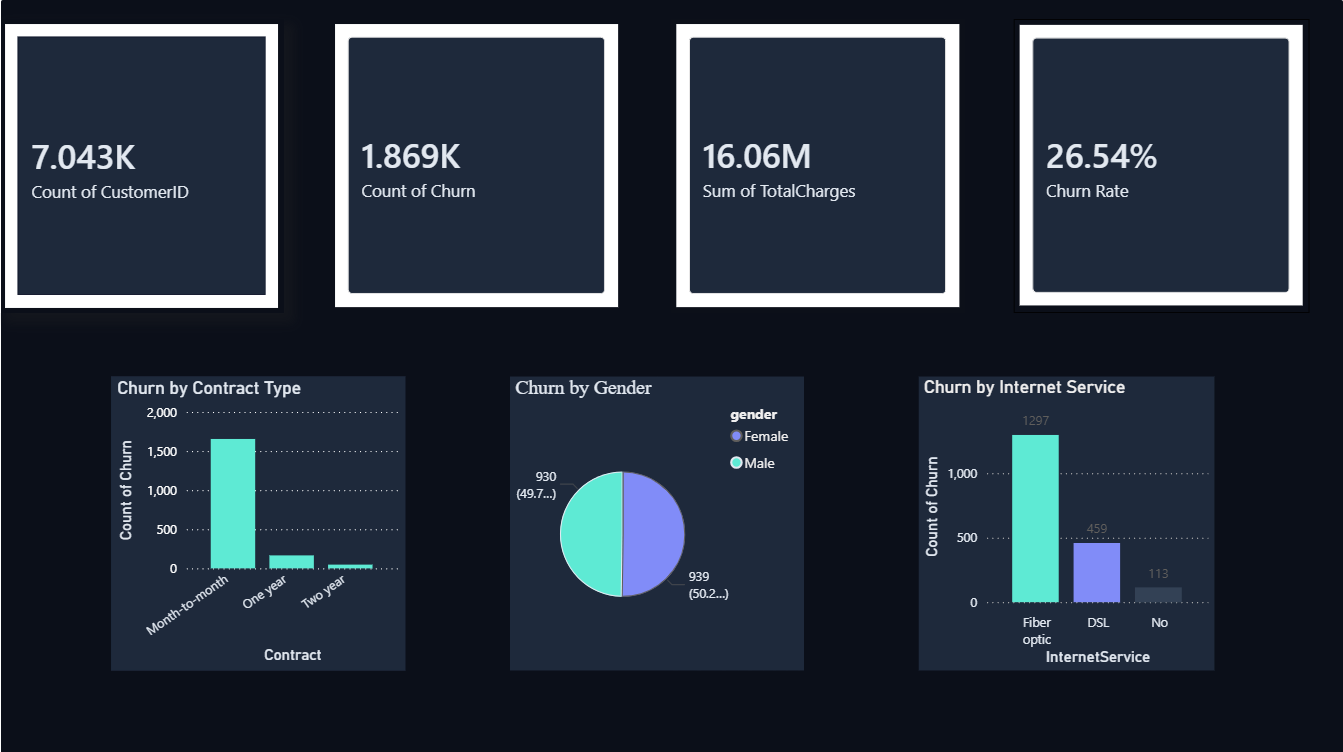

This screenshot's page, from the dashboard's own definition file:
{"tool":"powerbi","page":{"name":"Page 1","canvas":[1280,720],"ordinal":0},"visuals":[{"type":"clusteredColumnChart","title":"Churn by Contract Type","fields":{"Category":["WA_Fn-UseC_-Telco-Customer-Churn.Contract"],"Y":["CountNonNull(WA_Fn-UseC_-Telco-Customer-Churn.Churn)"]},"box":[105.7,359.5,279.9,279.9],"z":0},{"type":"pieChart","title":"Churn by Gender","fields":{"Category":["WA_Fn-UseC_-Telco-Customer-Churn.gender"],"Y":["CountNonNull(WA_Fn-UseC_-Telco-Customer-Churn.Churn)"]},"box":[485.8,359.5,279.9,279.9],"z":1000},{"type":"clusteredColumnChart","title":"Churn by Internet Service","fields":{"Category":["WA_Fn-UseC_-Telco-Customer-Churn.InternetService"],"Y":["CountNonNull(WA_Fn-UseC_-Telco-Customer-Churn.Churn)"]},"box":[875.5,359.5,281.3,279.9],"z":2000},{"type":"cardVisual","fields":{"Data":["CountNonNull(WA_Fn-UseC_-Telco-Customer-Churn.CustomerID)"]},"box":[0,18.8,270,280],"z":3000},{"type":"cardVisual","fields":{"Data":["CountNonNull(WA_Fn-UseC_-Telco-Customer-Churn.Churn)"]},"box":[314.2,19.2,279.9,279.9],"z":4000},{"type":"cardVisual","fields":{"Data":["Sum(WA_Fn-UseC_-Telco-Customer-Churn.TotalCharges)"]},"box":[639.5,19.2,279.9,279.9],"z":5000},{"type":"cardVisual","fields":{"Data":["WA_Fn-UseC_-Telco-Customer-Churn.Churn Rate","WA_Fn-UseC_-Telco-Customer-Churn.Churn Rate"]},"box":[966,19.2,281.3,279.9],"z":6000}]}

Visuals, with their boxes in screenshot pixels (x1, y1, x2, y2), scaled from the page's 1280x720 canvas onto the 1343x752 screenshot:
"Churn by Contract Type" clusteredColumnChart: (111, 375, 405, 668)
"Churn by Gender" pieChart: (510, 375, 803, 668)
"Churn by Internet Service" clusteredColumnChart: (919, 375, 1214, 668)
cardVisual - CountNonNull(WA_Fn-UseC_-Telco-Customer-Churn.CustomerID): (0, 20, 283, 312)
cardVisual - CountNonNull(WA_Fn-UseC_-Telco-Customer-Churn.Churn): (330, 20, 623, 312)
cardVisual - Sum(WA_Fn-UseC_-Telco-Customer-Churn.TotalCharges): (671, 20, 965, 312)
cardVisual - WA_Fn-UseC_-Telco-Customer-Churn.Churn Rate x WA_Fn-UseC_-Telco-Customer-Churn.Churn Rate: (1014, 20, 1309, 312)
